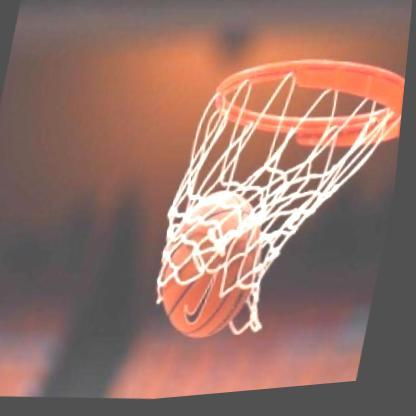basketball: (146, 183, 287, 355)
rim: (151, 37, 409, 350)
